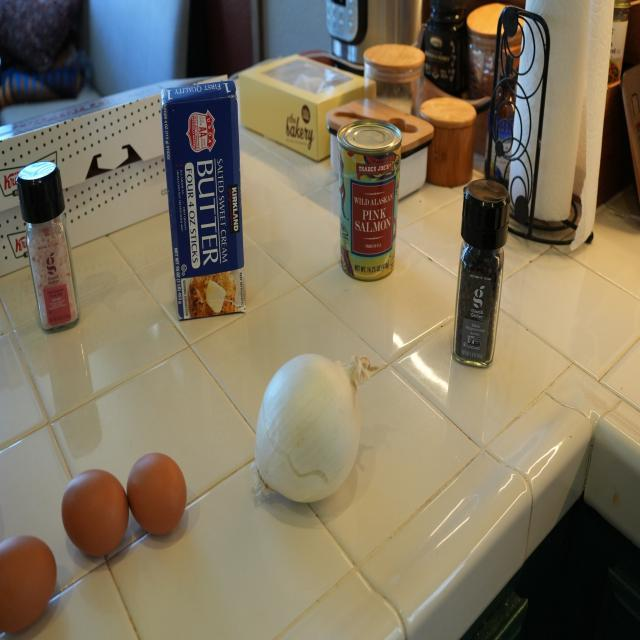bell_pepper: (454, 179, 508, 367)
egg: (54, 466, 140, 564), (120, 447, 196, 543), (1, 530, 59, 631)
onion: (244, 349, 366, 511)
